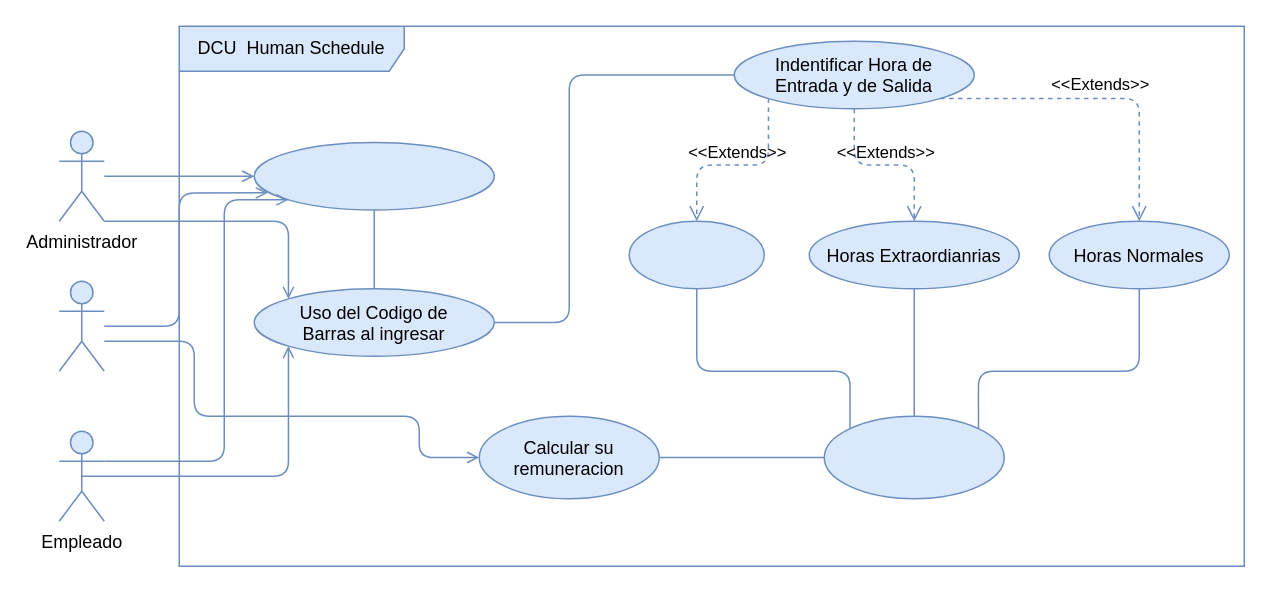
Image size: 1271x593. Some labels were removed from this diagram. The shapes that lost their labels are listed below. From the top down, each one's centre as x and y in pixels, then its label:
At pixel 373 175: "Registrar Usuario".
At pixel 696 254: "Horas Extra".
At pixel 81 325: "Sistema".
At pixel 913 457: "Guardar en la bases de datos".
